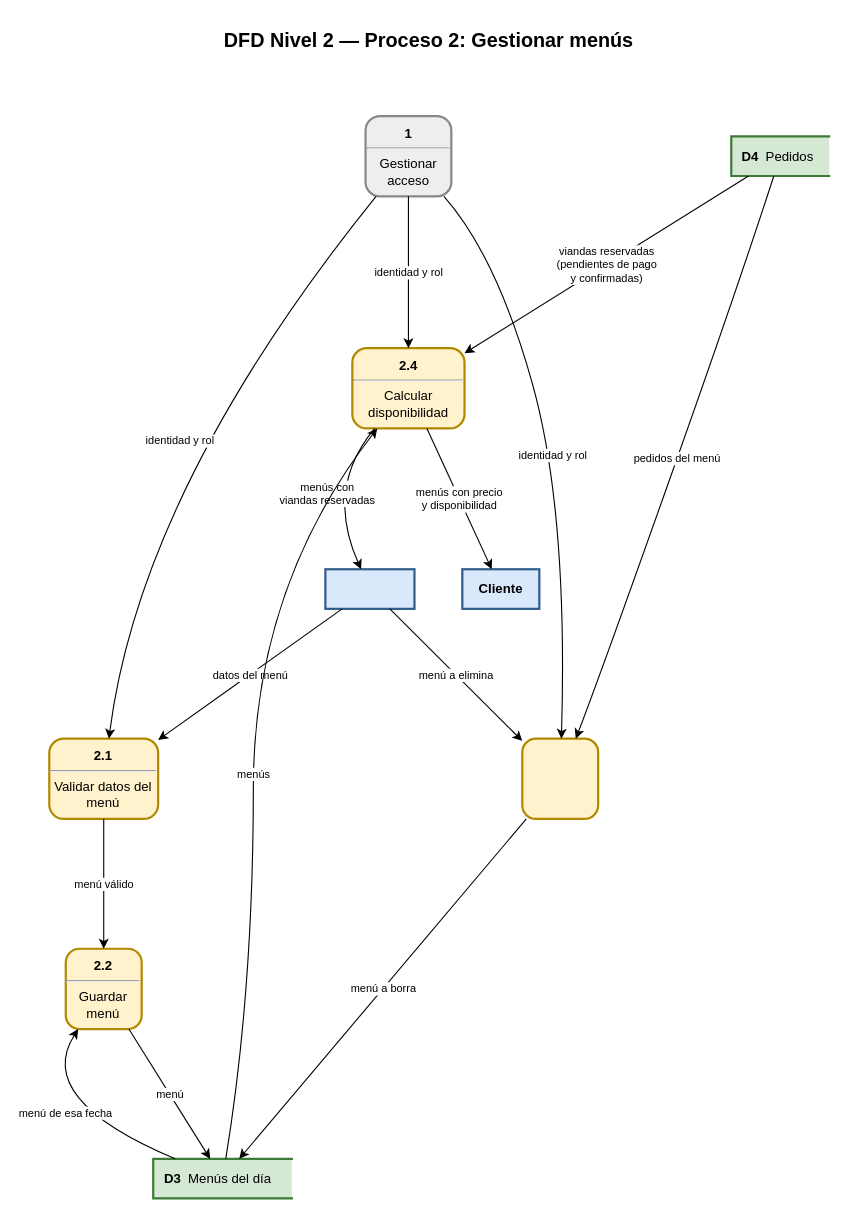
The diagram is 849 pixels wide and 1218 high, and some of its shapes have lost their labels. The centre of each missing label's shape, as x and y in pixels:
2.3 Eliminar menú: the point at 560,778
Cocinero: the point at 369,588
